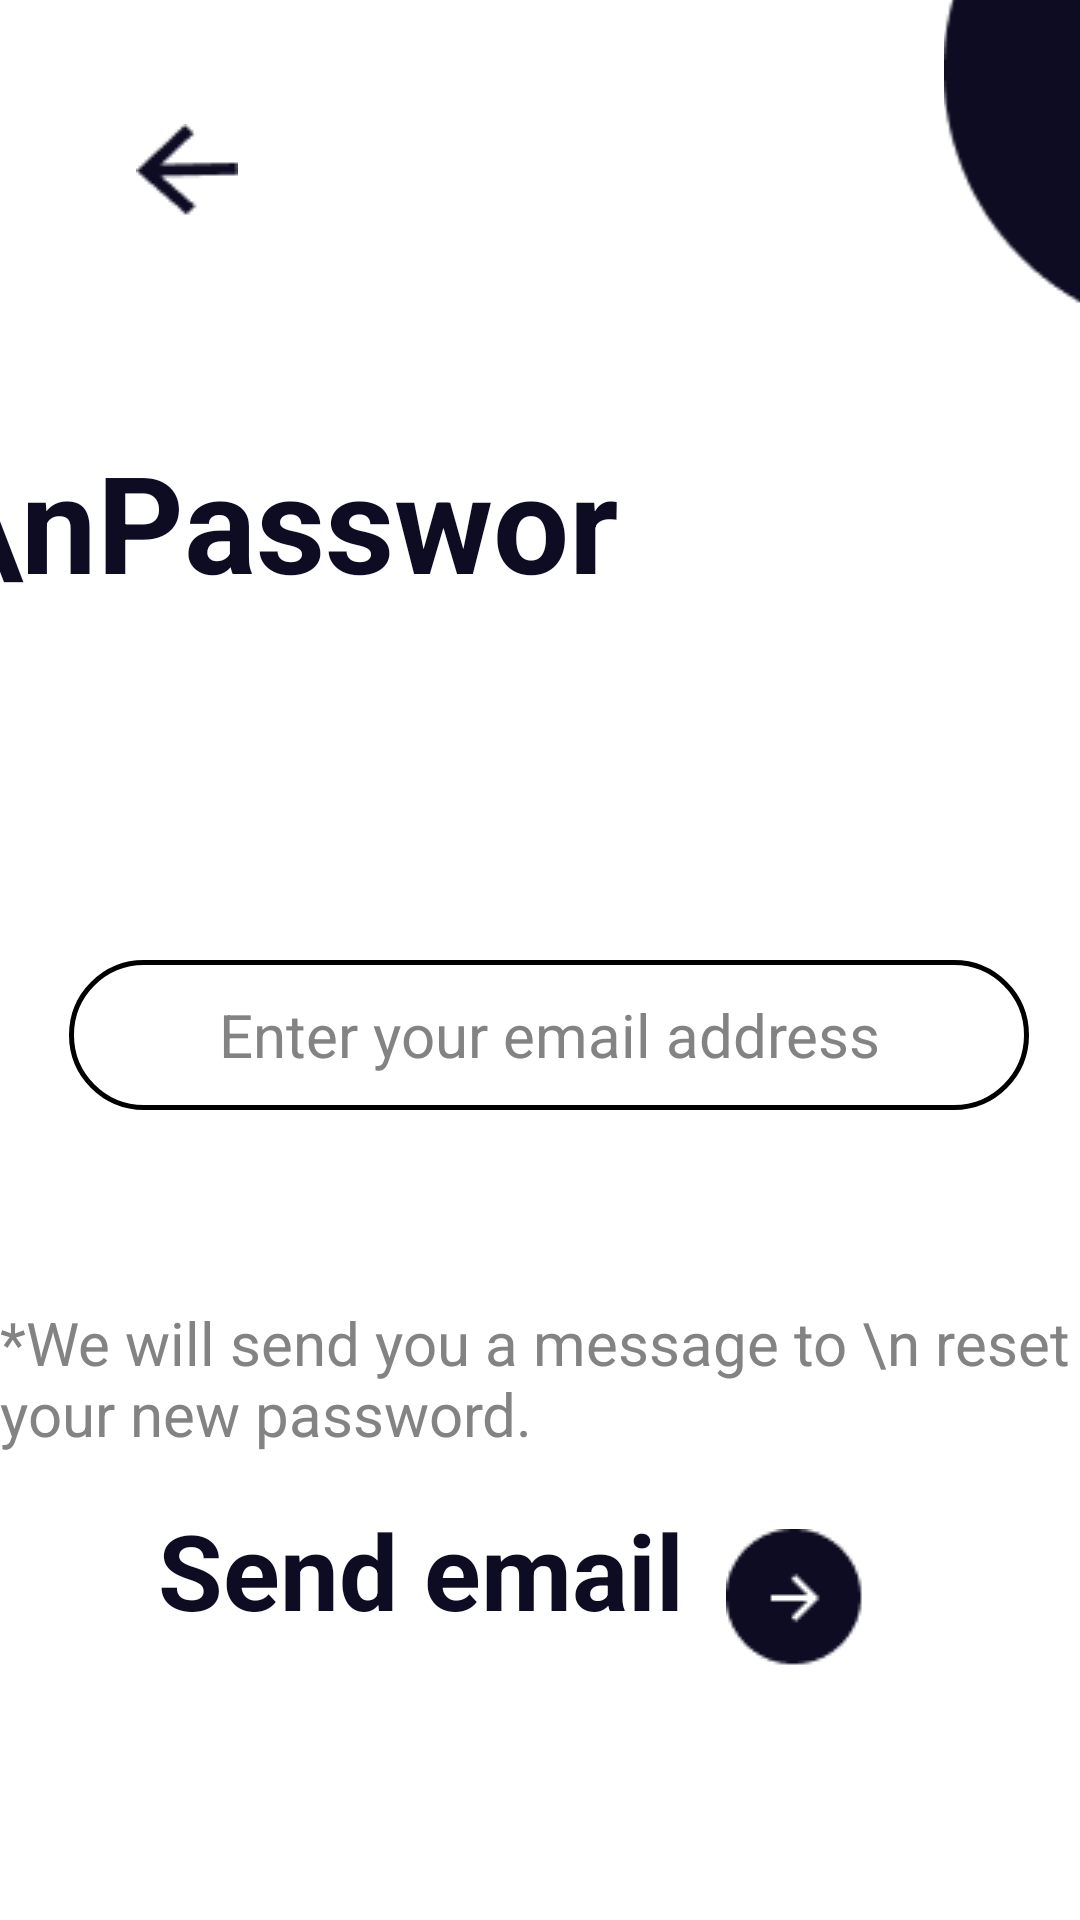

Screen size 1080 × 1920. Icon name, then its center in pixels as [x,y]:
back arrow: [187,169]
